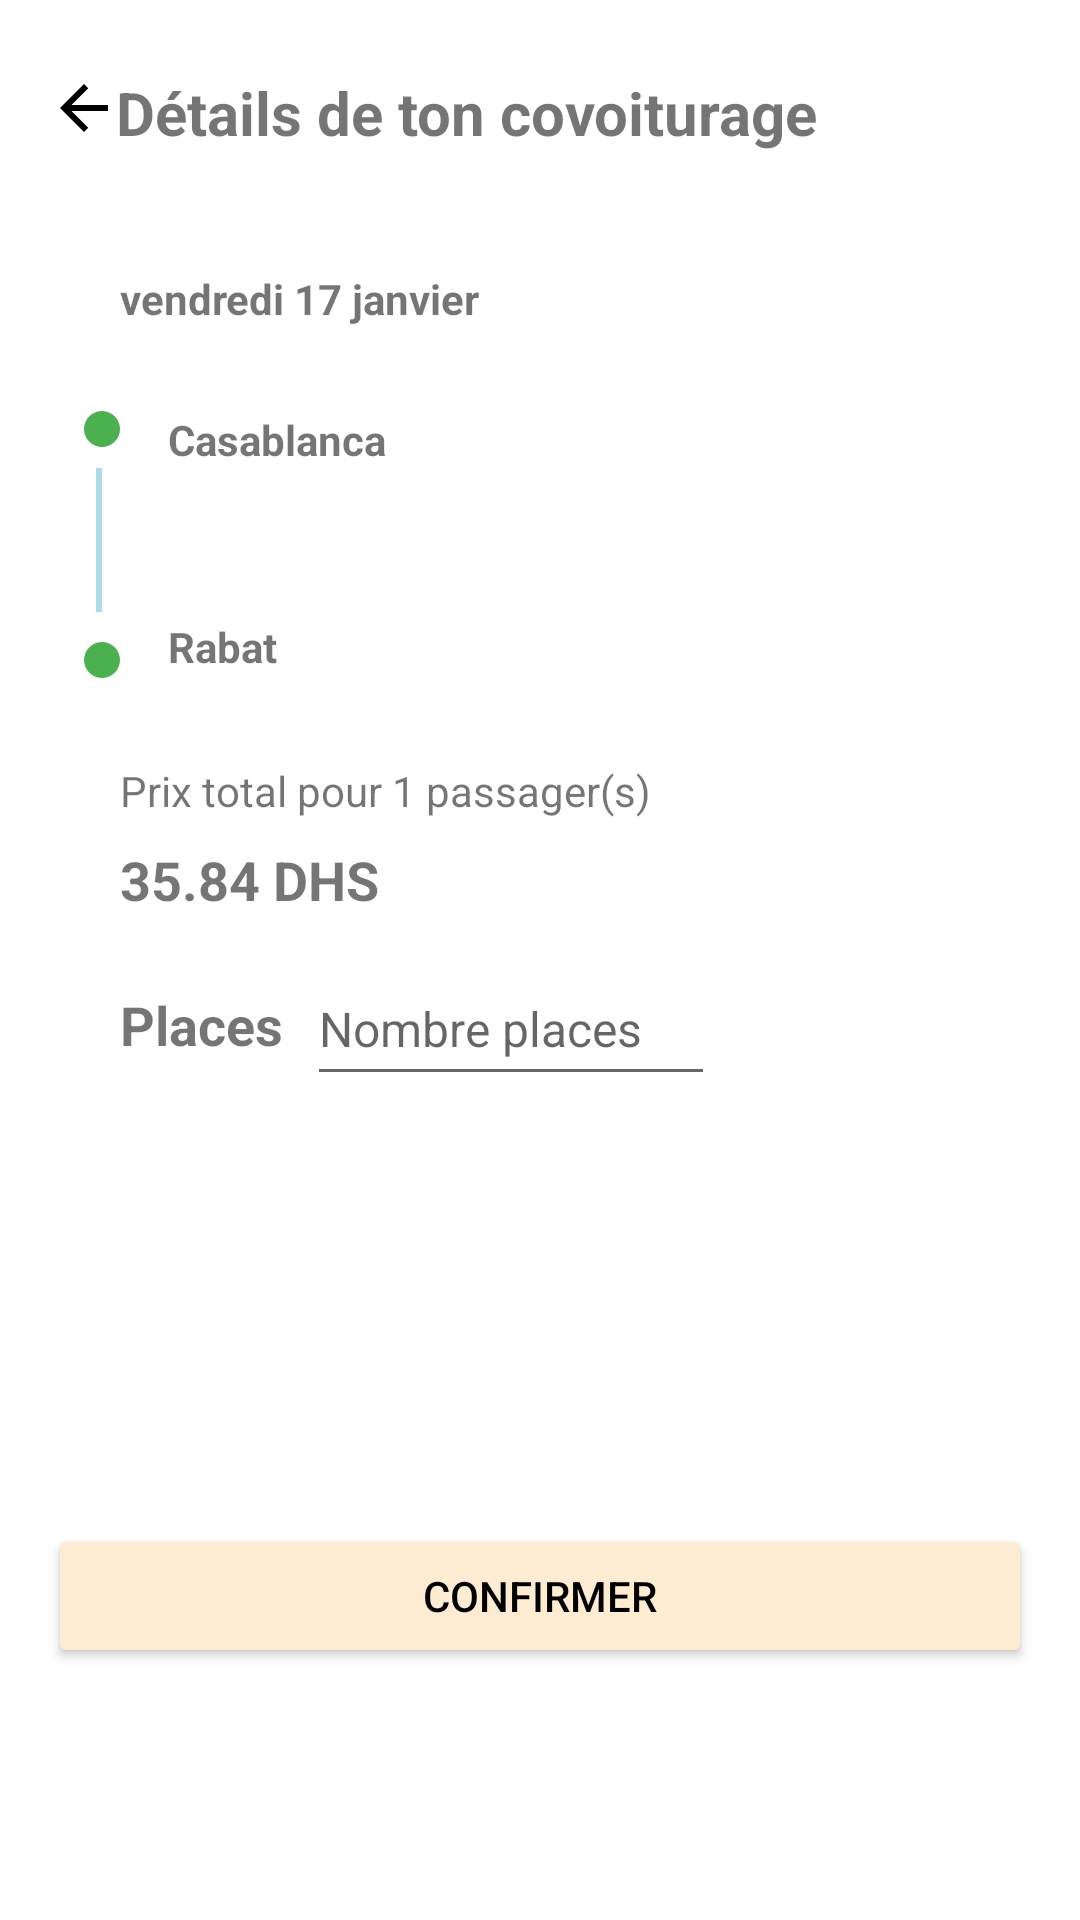

Point at icon controls on the screen. Image size 1080 × 1920, points as (x=x, y=y).
dot: (x=102, y=429), (x=102, y=660)
Retour: (x=84, y=108)
